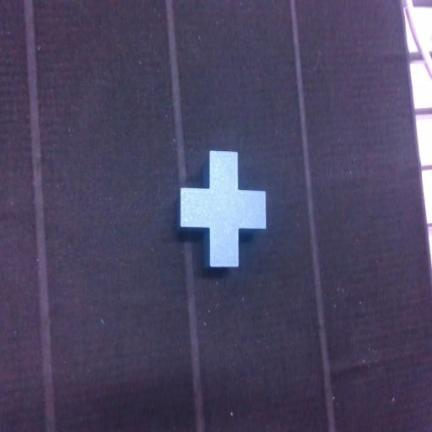cross: (180, 152, 265, 267)
